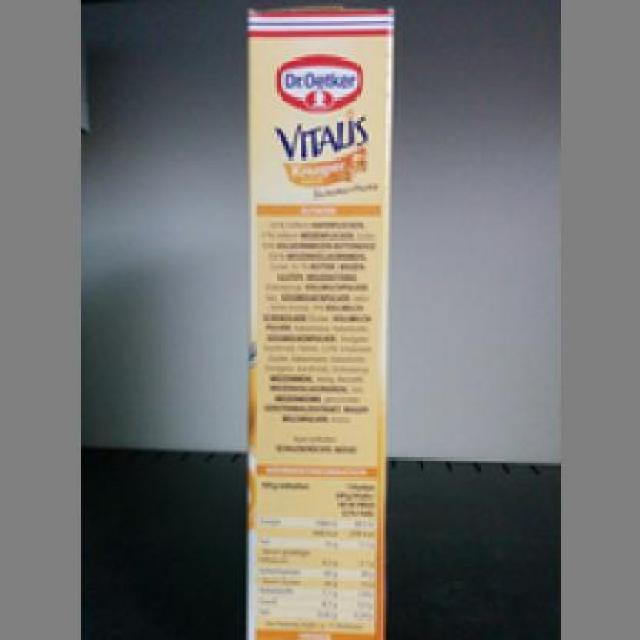Cereal: (239, 5, 392, 638)
